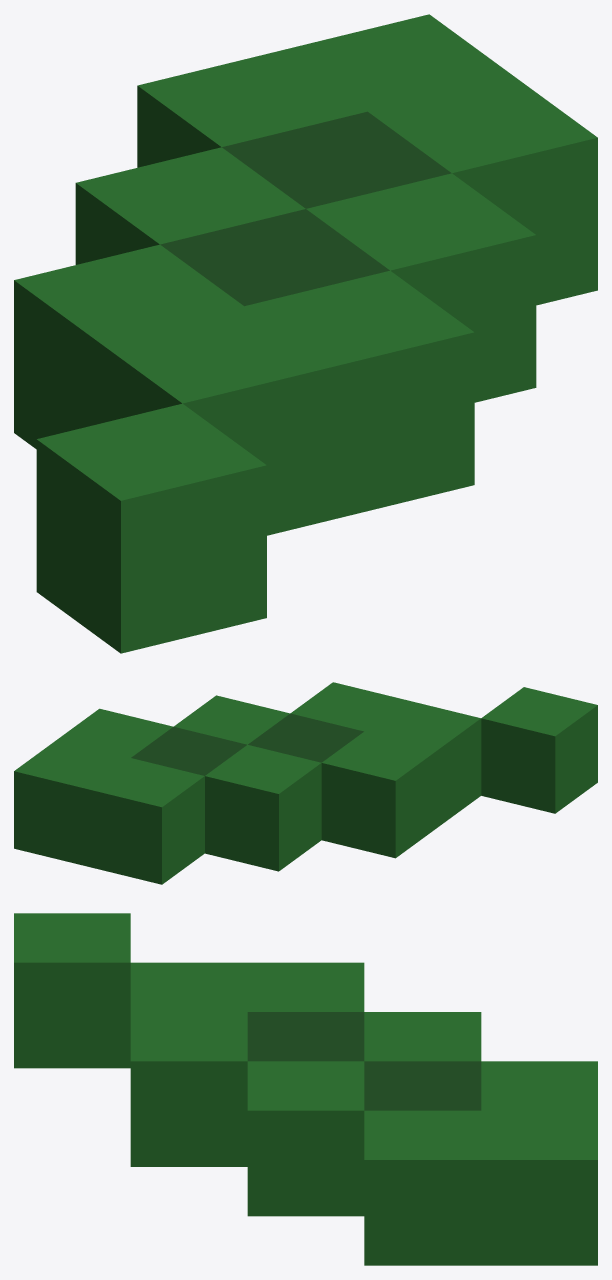
File: Erva 1.obj
The picture shows the model from 3 angles, top to bottom: view 1: azimuth 30°, elevation 25°; view 2: azimuth 150°, elevation 25°; view 3: azimuth 270°, elevation 25°; orthographic projection. The views are drawn at different scales.
Bounding box in the file's own units: 0.5 × 0.1 × 0.5.
1 material, 1 textured.
